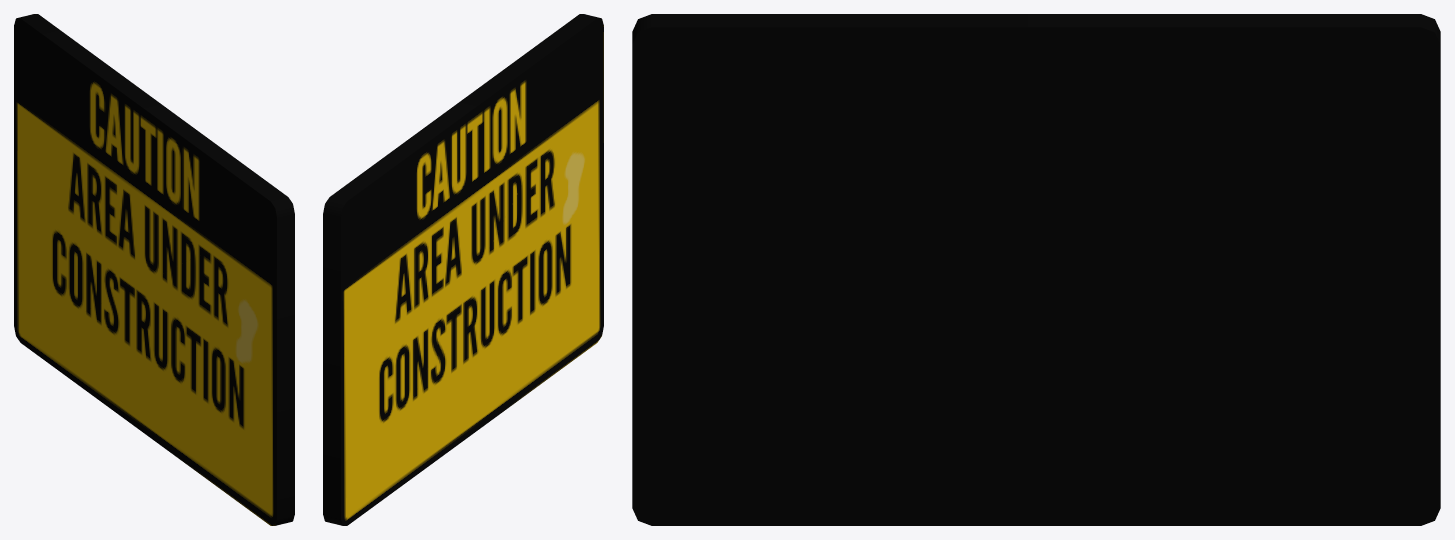
File: Sign_C_7.glb
The picture shows the model from 3 angles, left to right: view 1: azimuth 30°, elevation 25°; view 2: azimuth 150°, elevation 25°; view 3: azimuth 270°, elevation 25°; orthographic projection. The views are drawn at different scales.
Visible parts, largest first — view 1: Sign_C_7; view 2: Sign_C_7; view 3: Sign_C_7.
Part boxes in pixels (bbox=[...]): Sign_C_7: bbox=[14, 14, 294, 525]; Sign_C_7: bbox=[323, 14, 603, 525]; Sign_C_7: bbox=[632, 14, 1440, 525].
Bounding box in the file's own units: 0.0301 × 0.5265 × 0.7735.
Materials: 1 (1 with a texture image).
